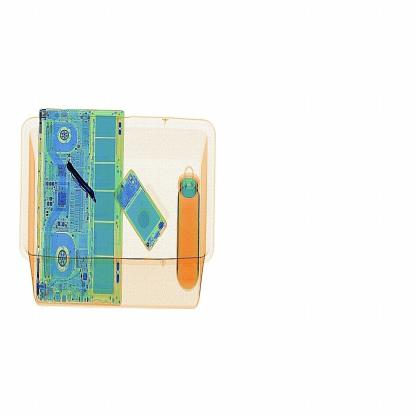knife: (66, 158, 96, 203)
